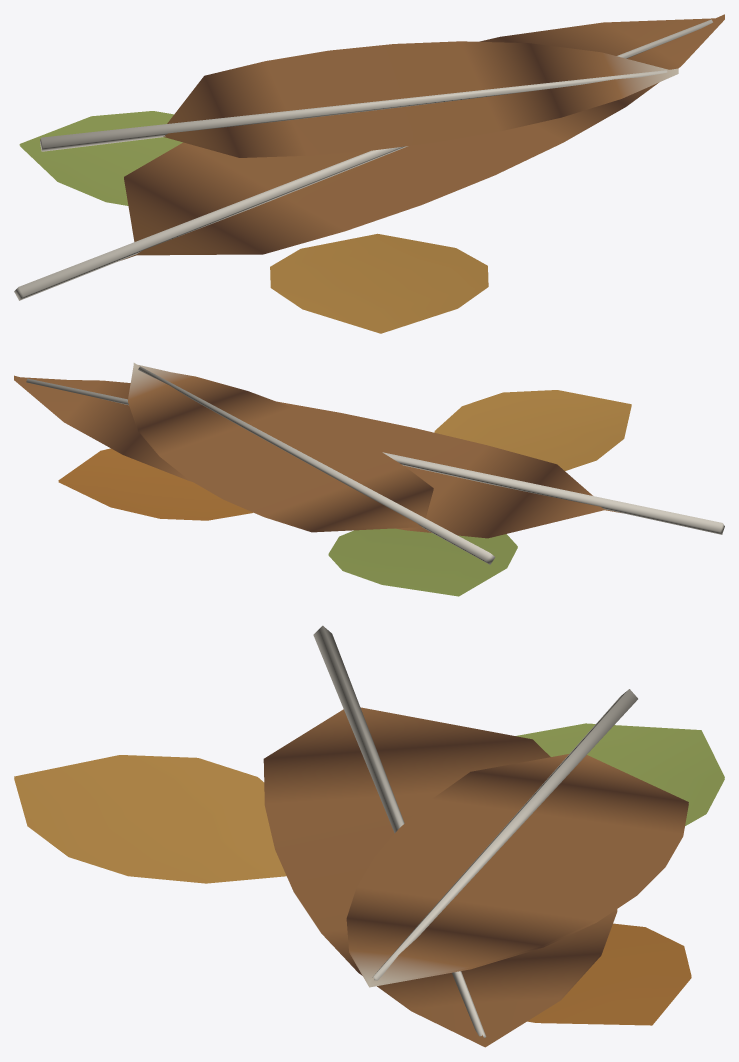
Rendered from ing_hawk_feather.glb.
3 renders of one model, top to bottom at view 1: azimuth 30°, elevation 25°; view 2: azimuth 150°, elevation 25°; view 3: azimuth 270°, elevation 25°, orthographic. The views are drawn at different scales.
Visible parts, largest first — view 1: ing_hawk_feather; view 2: ing_hawk_feather; view 3: ing_hawk_feather.
Boxes of the visible parts, bbox=[...] form: ing_hawk_feather: bbox=[14, 14, 724, 333]; ing_hawk_feather: bbox=[14, 363, 724, 596]; ing_hawk_feather: bbox=[14, 625, 724, 1047].
Size of what is drawn, in the model's own units: 0.507 by 0.044 by 0.3322.
